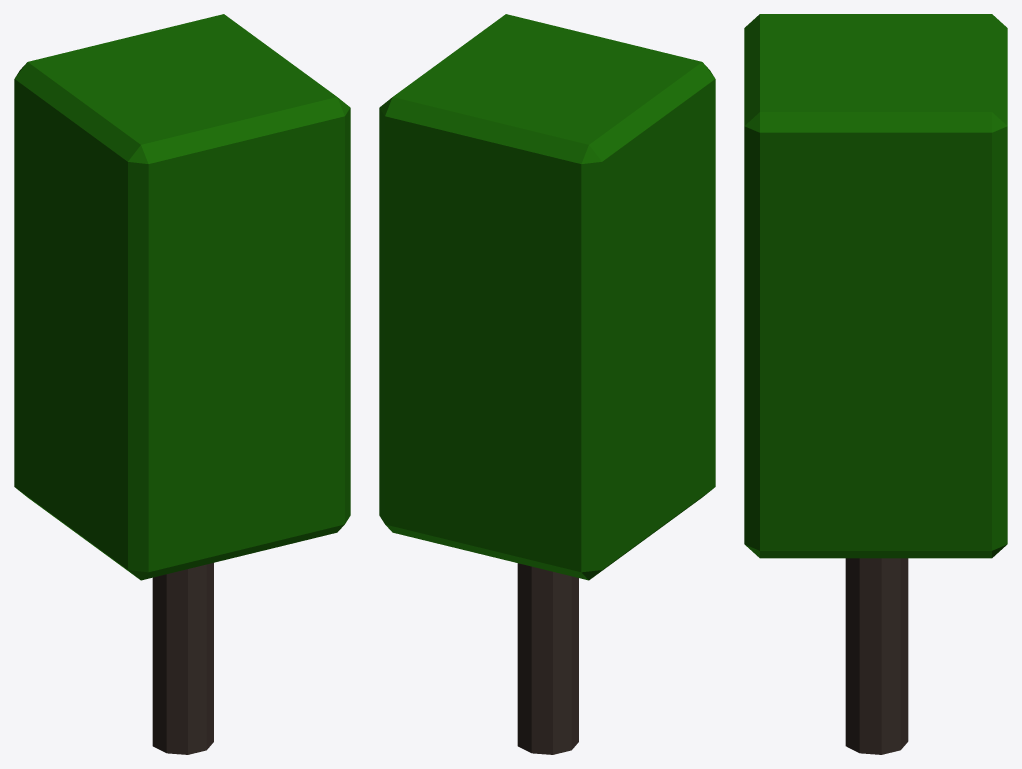
The model's file is Simple_Tree_3.fbx.
The picture shows the model from 3 angles, left to right: view 1: azimuth 30°, elevation 25°; view 2: azimuth 150°, elevation 25°; view 3: azimuth 270°, elevation 25°; orthographic projection. The views are drawn at different scales.
Visible parts, largest first — view 1: Simple_Tree_3; view 2: Simple_Tree_3; view 3: Simple_Tree_3.
Boxes of the visible parts, x1,y1,x2,y2 form: Simple_Tree_3: (14, 14, 350, 754); Simple_Tree_3: (379, 14, 715, 754); Simple_Tree_3: (744, 14, 1007, 754).
Bounding box in the file's own units: 242 × 688 × 242.
